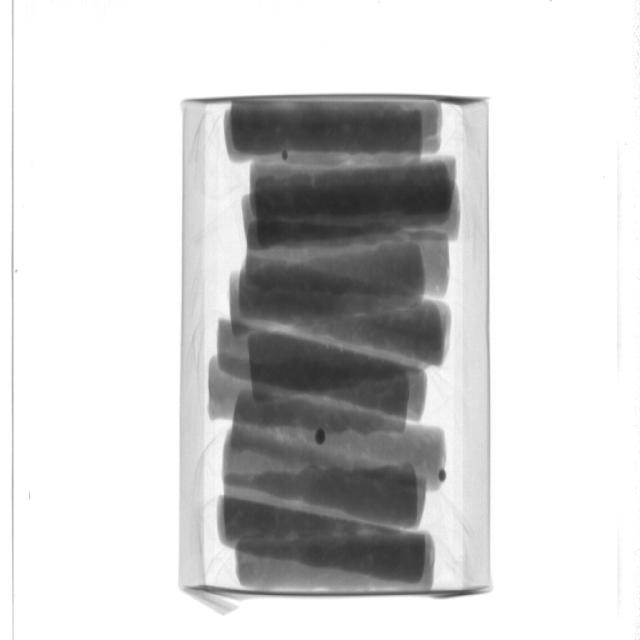ym: (316, 429, 326, 445), (440, 470, 449, 480), (282, 151, 290, 161)
